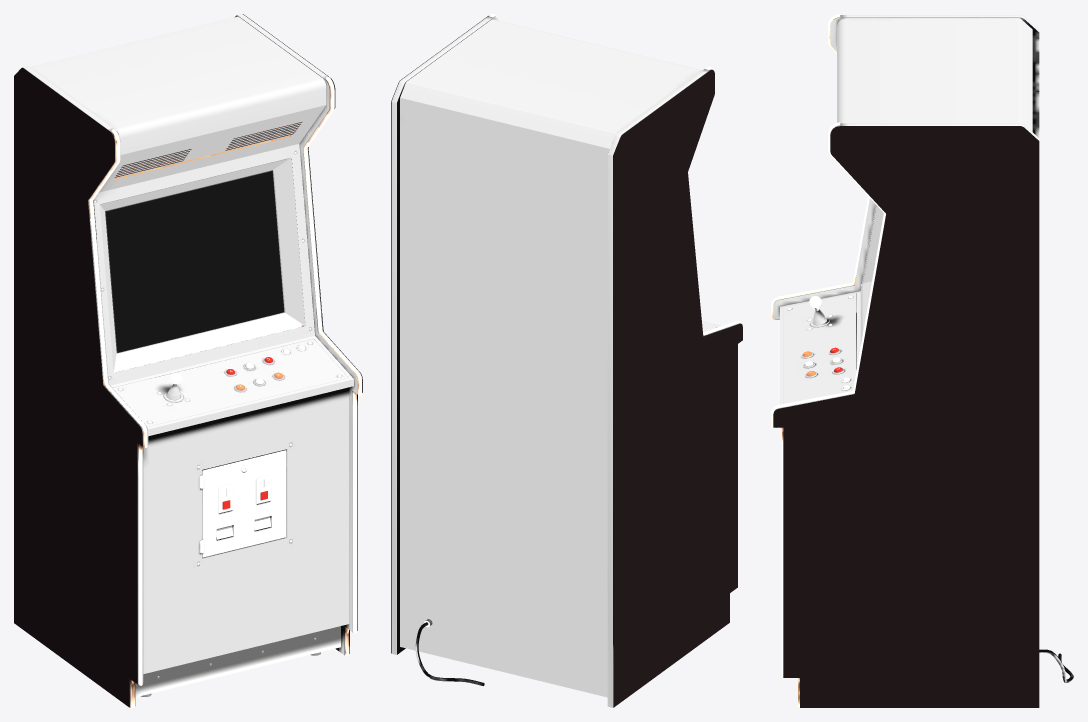
File: cab-carillon-v2.glb
The picture shows the model from 3 angles, left to right: view 1: azimuth 30°, elevation 25°; view 2: azimuth 150°, elevation 25°; view 3: azimuth 270°, elevation 25°; orthographic projection. The views are drawn at different scales.
Parts seen in each view (by area): view 1: body, side_art_l, screen, glass, trim, metal, side_art_r; view 2: body, side_art_l, side_art_r; view 3: side_art_r, body, trim.
Boxes of the visible parts, box(x1,y1,x2,y2) form: body: box(23, 14, 362, 707); side_art_l: box(14, 67, 142, 707); screen: box(106, 171, 283, 352); glass: box(106, 171, 284, 352); trim: box(89, 76, 361, 707); metal: box(94, 151, 341, 696); side_art_r: box(243, 14, 362, 653); body: box(391, 16, 740, 707); side_art_l: box(613, 69, 742, 707); side_art_r: box(391, 16, 488, 653); side_art_r: box(773, 126, 1039, 707); body: box(773, 15, 1039, 411); trim: box(771, 14, 885, 707).
Bounding box in the file's own units: 0.793 × 1.94 × 0.9112.
23 materials, 8 textured.
